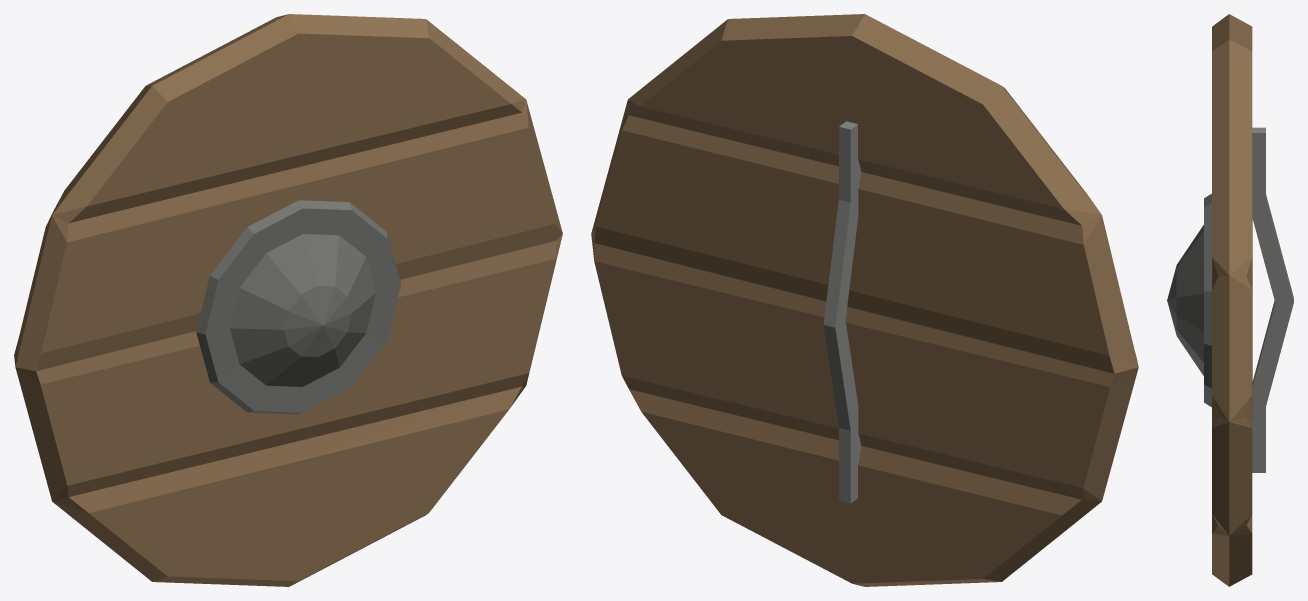
Rendered from SM_pwe_gauls_shield_02.fbx.
3 views of the same model, side by side, from view 1: azimuth 30°, elevation 25°; view 2: azimuth 150°, elevation 25°; view 3: azimuth 270°, elevation 25° (orthographic). The views are drawn at different scales.
Parts seen in each view (by area): view 1: SM_pwe_gauls_shield_02; view 2: SM_pwe_gauls_shield_02; view 3: SM_pwe_gauls_shield_02.
Boxes of the visible parts, <box> form: SM_pwe_gauls_shield_02: <box>14,14,562,586</box>; SM_pwe_gauls_shield_02: <box>591,14,1138,586</box>; SM_pwe_gauls_shield_02: <box>1167,14,1293,586</box>.
Size of the model in its own units: 70.66 by 70.66 by 15.59.
